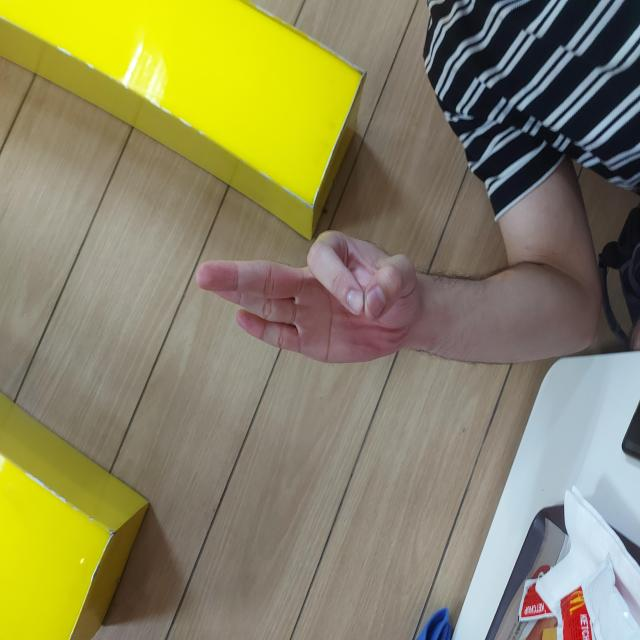F: (272, 194, 414, 426)
